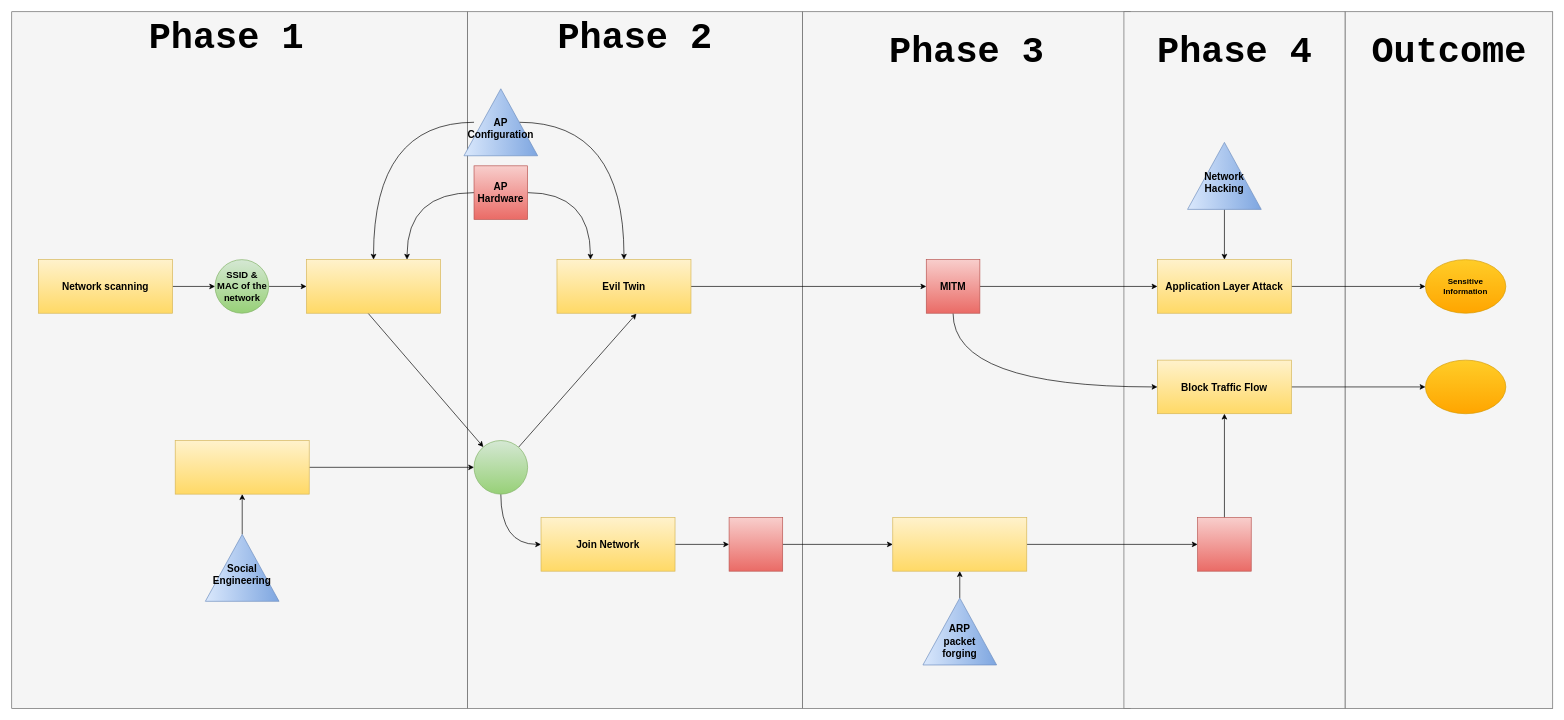
The diagram is 1564 pixels wide and 720 high, and some of its shapes have lost their labels. Each missing label, with the centre of its shape:
Capture Password: point 242,467
Client Session Hijacking: point 1224,544
Denial of Service: point 1465,386
Key: point 500,467
Network Join: point 755,544
Network Layer Attack: point 959,544
Rogue AP: point 373,286
